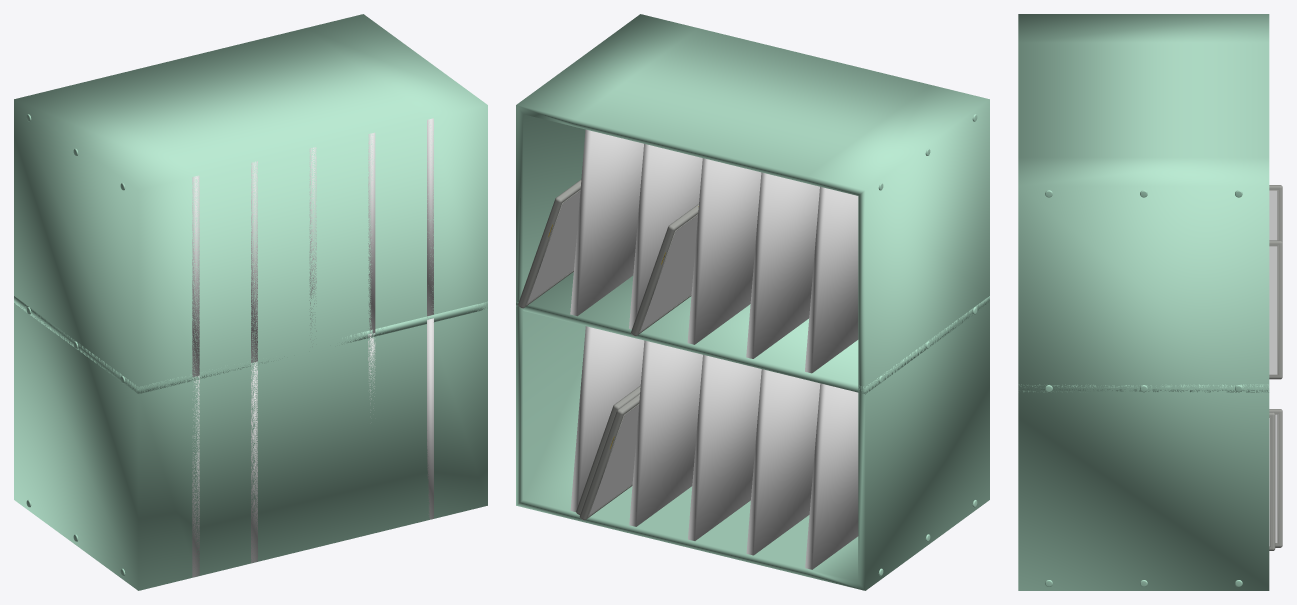
Rendered from cassette shelf.fbx.
3 renders of one model, left to right at view 1: azimuth 30°, elevation 25°; view 2: azimuth 150°, elevation 25°; view 3: azimuth 270°, elevation 25°, orthographic.
Parts seen in each view (by area): view 1: Shelf_2, Middle_Shelf, Upright_Shelf_0_2, Upright_Shelf_3_2, Upright_Shelf_1_2, Upright_Shelf_4_2, Upright_Shelf_1, Upright_Shelf_4, Upright_Shelf_0, Upright_Shelf_2_2; view 2: Shelf_2, Middle_Shelf, Upright_Shelf_1_2, Upright_Shelf_2_2, Upright_Shelf_4_2, Upright_Shelf_1, Upright_Shelf_3, Upright_Shelf_2, Upright_Shelf_0_2, Upright_Shelf_0, Upright_Shelf_4, Upright_Shelf_3_2 (+4 smaller); view 3: Shelf_2, Plate_middle, Plate_bottom_1, Plate_bottom, Middle_Shelf, Plate_left.
Part boxes in pixels (x1,y1,x2,y2): Shelf_2: [14, 14, 487, 590]; Middle_Shelf: [14, 296, 487, 393]; Upright_Shelf_0_2: [192, 175, 199, 377]; Upright_Shelf_3_2: [368, 132, 375, 333]; Upright_Shelf_1_2: [251, 161, 257, 362]; Upright_Shelf_4_2: [427, 118, 433, 317]; Upright_Shelf_1: [251, 361, 257, 562]; Upright_Shelf_4: [427, 318, 433, 519]; Upright_Shelf_0: [192, 375, 199, 577]; Upright_Shelf_2_2: [309, 147, 316, 346]; Shelf_2: [516, 14, 989, 590]; Middle_Shelf: [516, 272, 989, 394]; Upright_Shelf_1_2: [746, 172, 819, 358]; Upright_Shelf_2_2: [687, 158, 761, 344]; Upright_Shelf_4_2: [570, 129, 643, 316]; Upright_Shelf_1: [746, 369, 820, 555]; Upright_Shelf_3: [629, 340, 702, 526]; Upright_Shelf_2: [688, 355, 761, 540]; Upright_Shelf_0_2: [805, 186, 858, 373]; Upright_Shelf_0: [805, 383, 858, 569]; Upright_Shelf_4: [570, 326, 644, 511]; Upright_Shelf_3_2: [629, 144, 702, 329]; Shelf_2: [1018, 14, 1269, 590]; Plate_middle: [1269, 240, 1282, 379]; Plate_bottom_1: [1269, 409, 1282, 547]; Plate_bottom: [1269, 412, 1275, 550]; Middle_Shelf: [1018, 384, 1268, 392]; Plate_left: [1269, 185, 1282, 241].
Size of the model in its own units: 0.735 by 0.8 by 0.4737.
